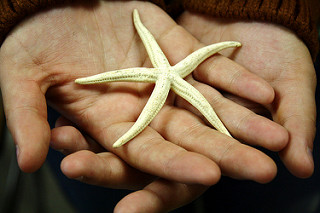palm: (34, 5, 209, 120)
